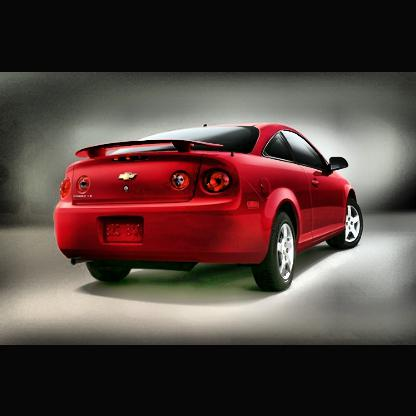Chevrolet Cobalt SS 2010: (55, 122, 366, 295)
